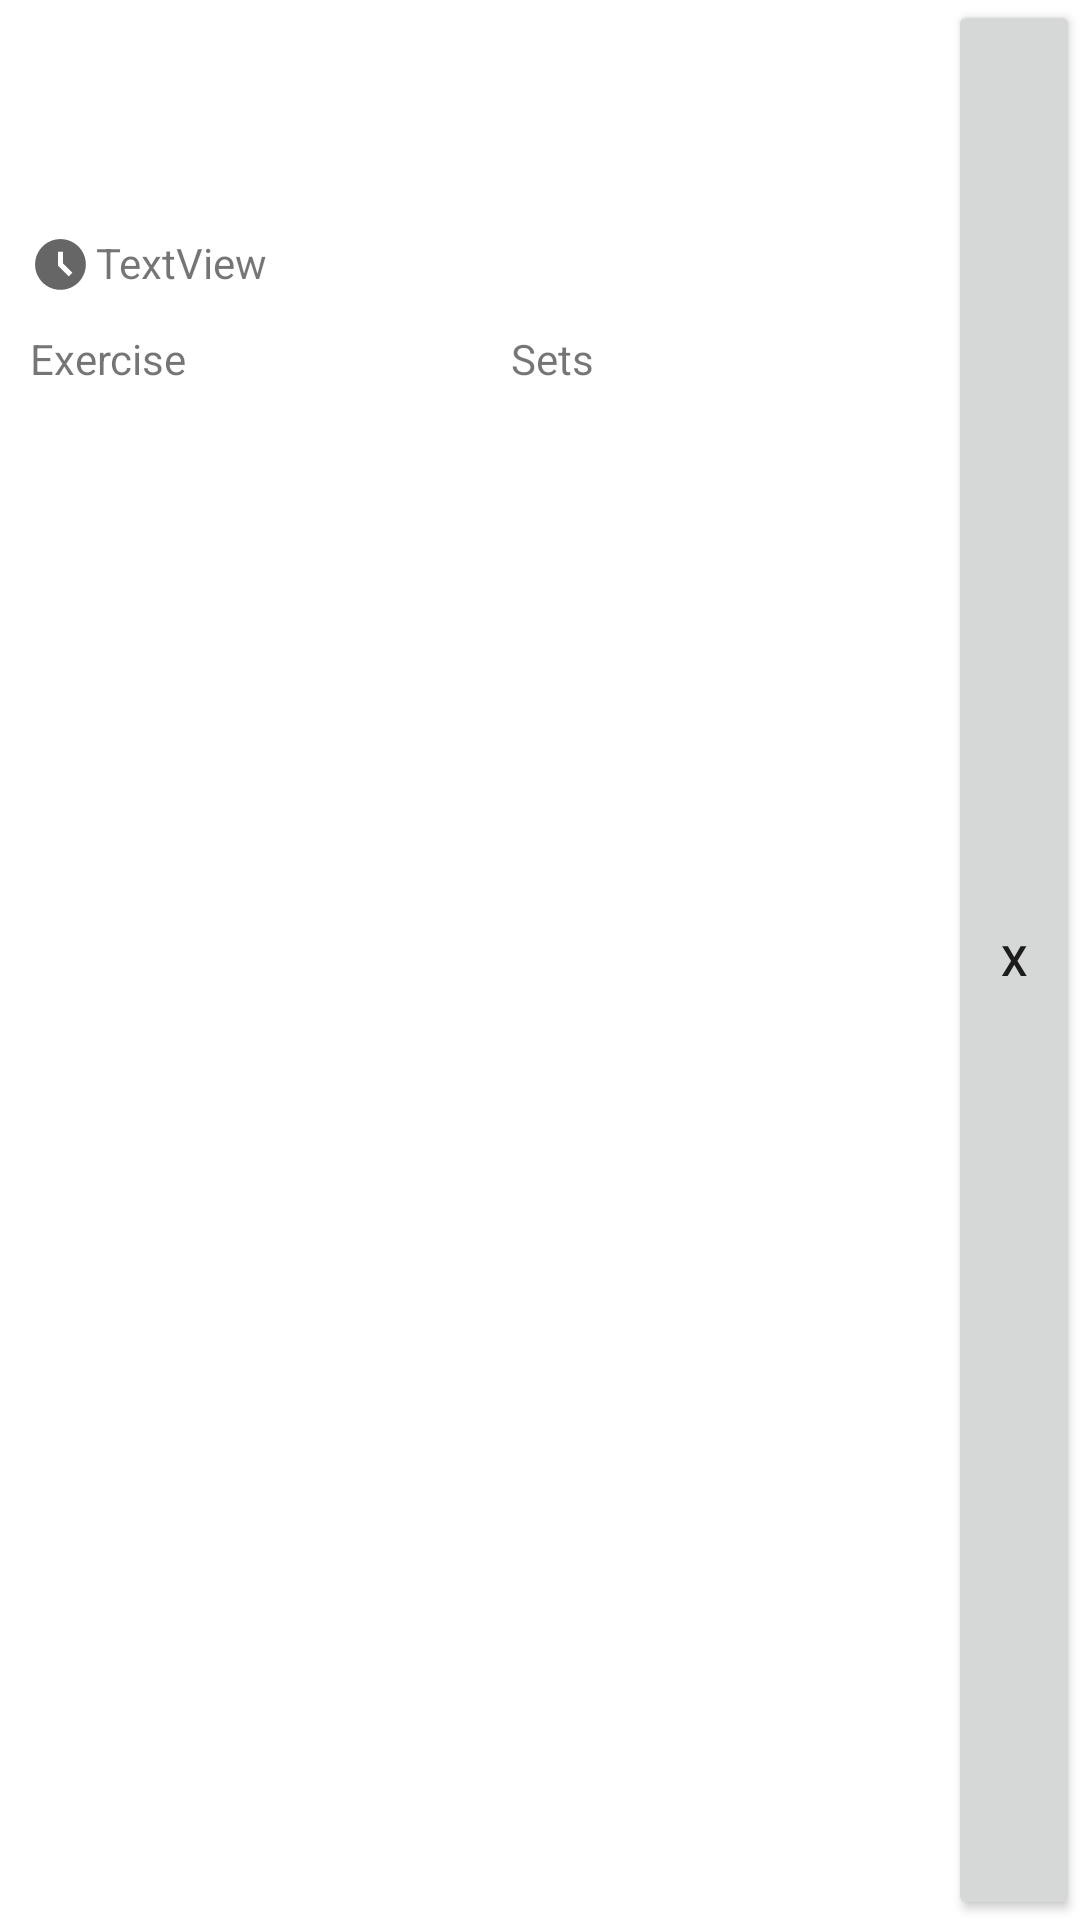

Screen size 1080x1920. Icon name, then its center in pixels as [x,y]:
time: [60,264]
